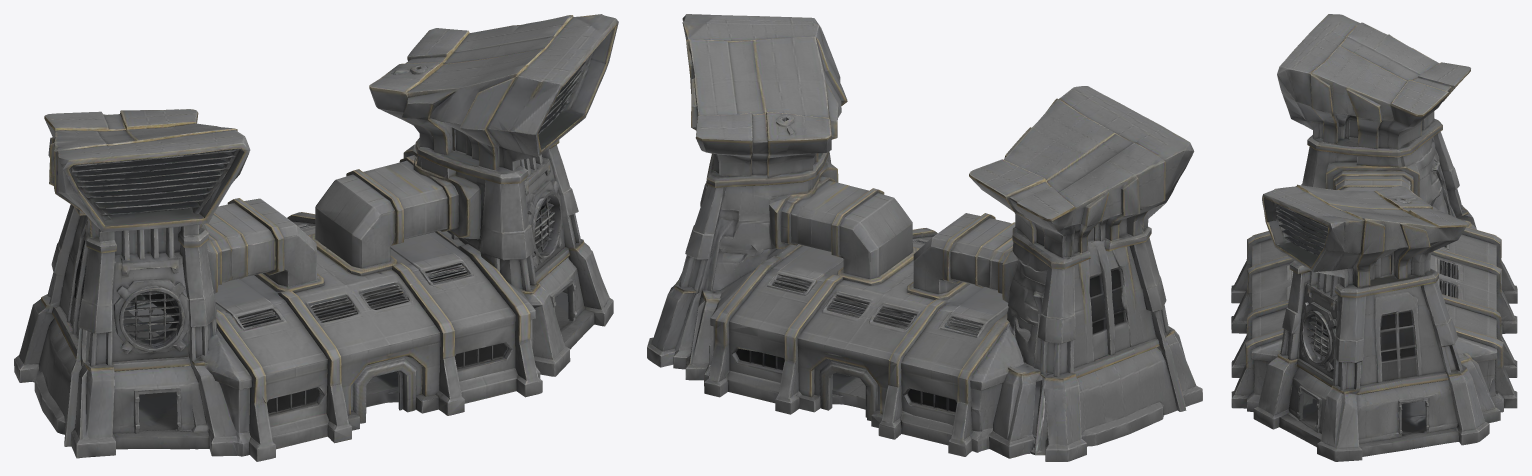
Rendered from imperial_atmospheric_harvester.glb.
3 views of the same model, side by side, from view 1: azimuth 30°, elevation 25°; view 2: azimuth 150°, elevation 25°; view 3: azimuth 270°, elevation 25° (orthographic). The views are drawn at different scales.
Visible parts, largest first — view 1: mesh_node; view 2: mesh_node; view 3: mesh_node.
Boxes of the visible parts, x1,y1,x2,y2 form: mesh_node: (14, 14, 618, 461); mesh_node: (647, 14, 1202, 461); mesh_node: (1231, 14, 1517, 461).
Size of the model in its own units: 37.75 by 19.25 by 20.92.
1 material, 1 textured.
